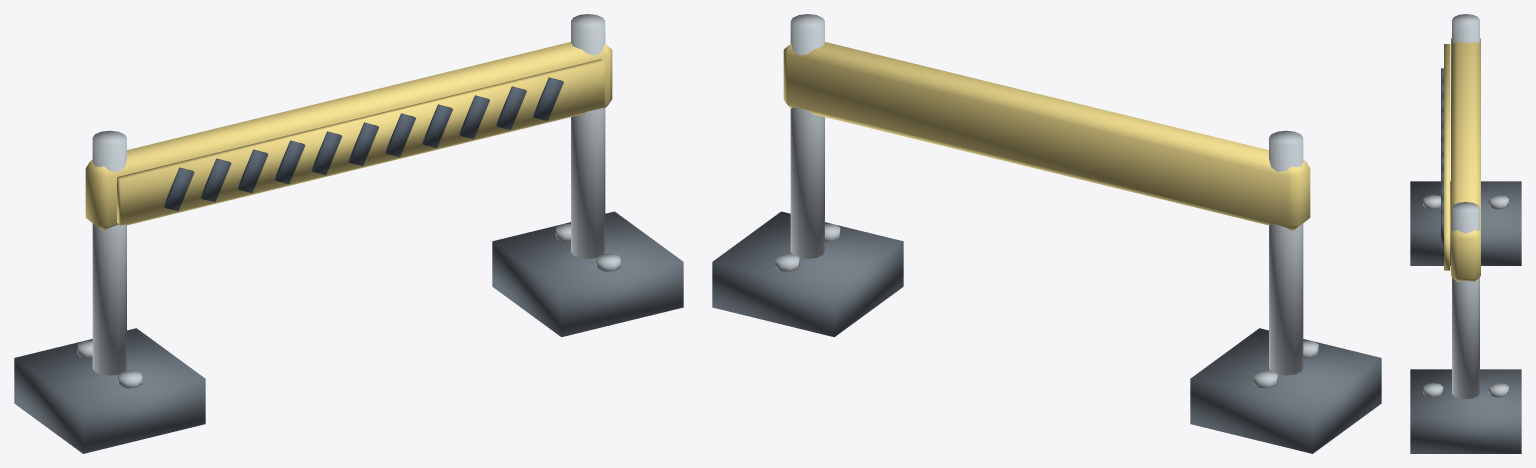
Rendered from hazard_barrier_standard.glb.
3 renders of one model, left to right at view 1: azimuth 30°, elevation 25°; view 2: azimuth 150°, elevation 25°; view 3: azimuth 270°, elevation 25°, orthographic. The views are drawn at different scales.
Parts seen in each view (by area): view 1: Base_dark, Detail_yellow, Rail_yellow, Rail_steel, Detail_black, Anchor_steel; view 2: Rail_yellow, Base_dark, Rail_steel, Anchor_steel; view 3: Base_dark, Rail_yellow, Rail_steel, Detail_yellow, Anchor_steel, Detail_black.
Boxes of the visible parts, left/top/right/bottom form: Base_dark: left=14, top=211, right=683, bottom=453; Detail_yellow: left=117, top=59, right=604, bottom=225; Rail_yellow: left=85, top=42, right=612, bottom=230; Rail_steel: left=92, top=14, right=605, bottom=375; Detail_black: left=163, top=77, right=563, bottom=211; Anchor_steel: left=77, top=223, right=620, bottom=388; Rail_yellow: left=783, top=42, right=1310, bottom=230; Base_dark: left=712, top=211, right=1381, bottom=453; Rail_steel: left=790, top=14, right=1303, bottom=375; Anchor_steel: left=775, top=223, right=1318, bottom=388; Base_dark: left=1410, top=181, right=1521, bottom=453; Rail_yellow: left=1451, top=38, right=1480, bottom=281; Rail_steel: left=1452, top=14, right=1479, bottom=398; Detail_yellow: left=1444, top=44, right=1450, bottom=270; Anchor_steel: left=1423, top=195, right=1508, bottom=397; Detail_black: left=1441, top=68, right=1443, bottom=246.
Size of the model in its own units: 2.21 by 0.97 by 0.44.
